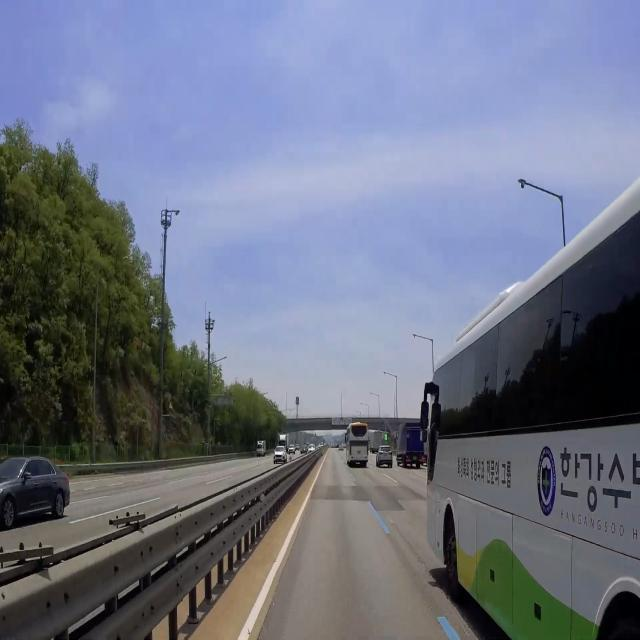car: (380, 450, 392, 464), (410, 455, 420, 466), (356, 448, 363, 462)
